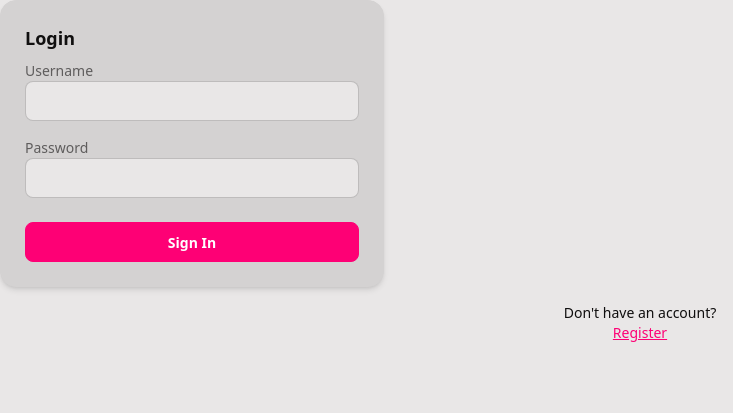
Scenario: LoginForm › shows error on failed login
The width and height of the screenshot is (733, 413).
Type "testuser" into the field labelled "Username" at (192, 101), box [25,81,359,121]
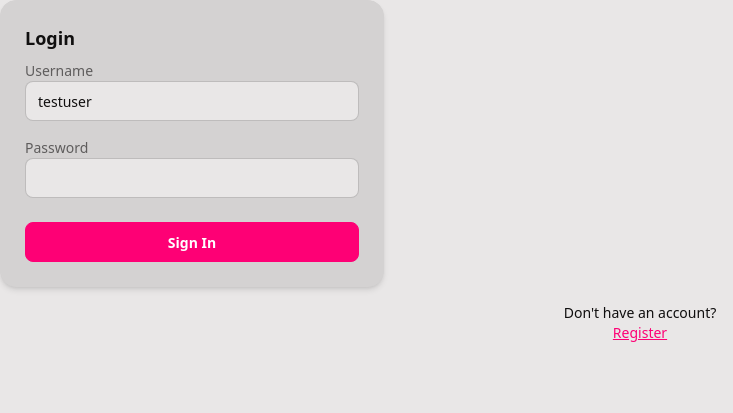
Type "wrongpass" into the password field labelled "Password" at (192, 178), box [25,158,359,198]
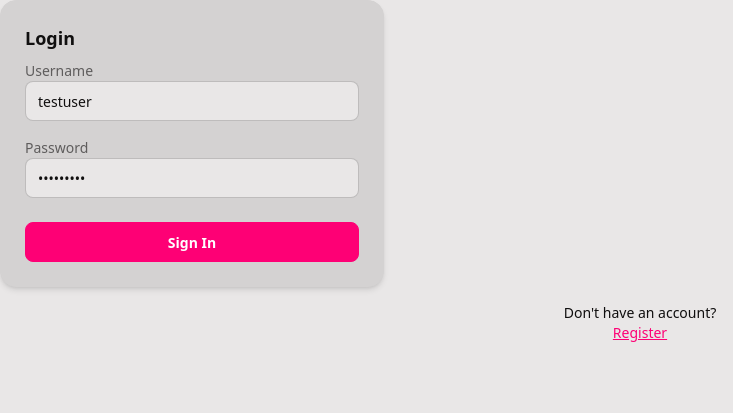
Click the button "Sign In" at (192, 242), box [25,222,359,262]
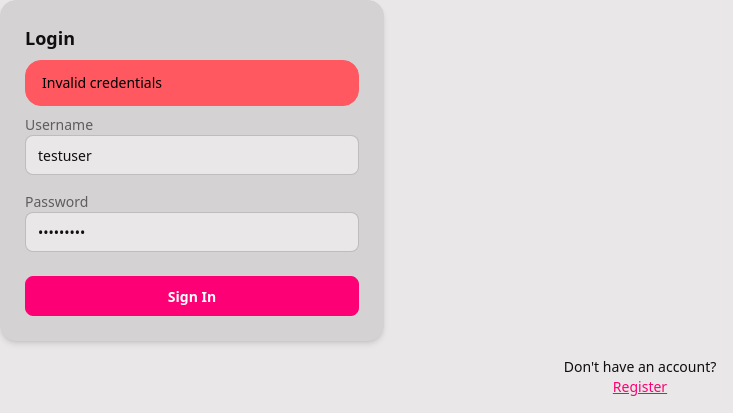
Result: the message reads "Invalid credentials" at [42,73,162,92]
